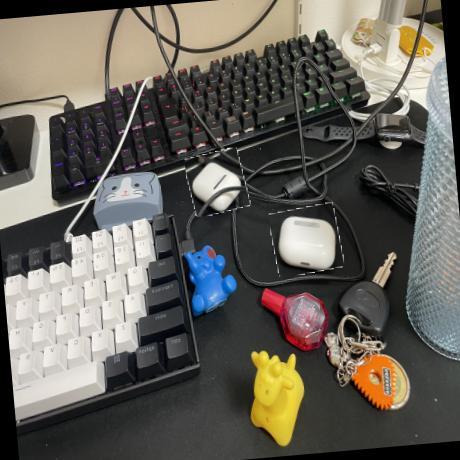airpod2: (186, 149, 250, 217)
airpod3: (269, 203, 343, 277)
